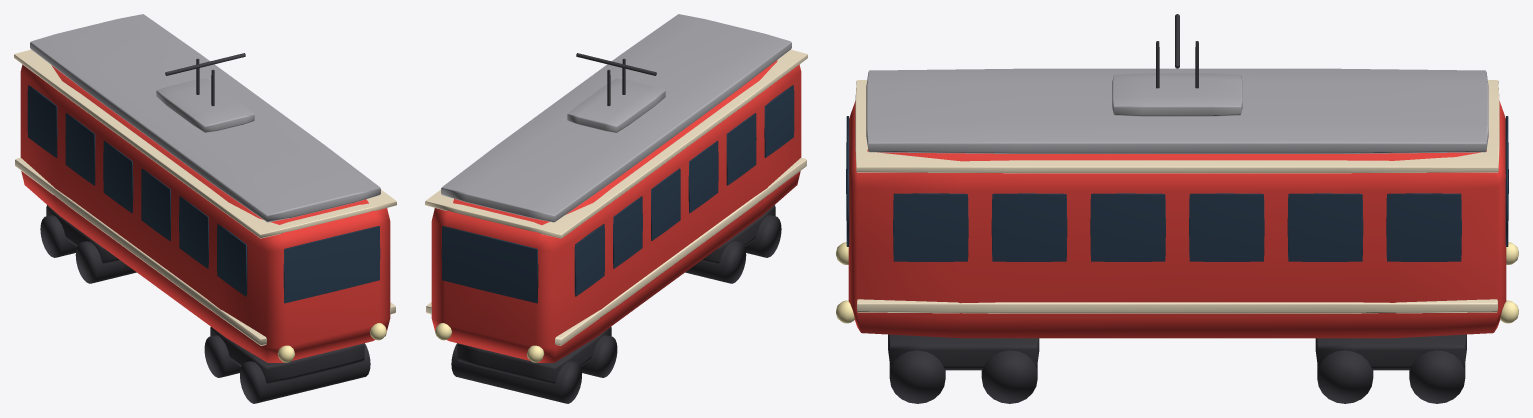
The model's file is StruggleTram.obj.
The picture shows the model from 3 angles, left to right: view 1: azimuth 30°, elevation 25°; view 2: azimuth 150°, elevation 25°; view 3: azimuth 270°, elevation 25°; orthographic projection. The views are drawn at different scales.
Parts seen in each view (by area): view 1: Body, Roof, Windows, Bogies, Stripe, Pantograph, Lamps; view 2: Body, Roof, Windows, Bogies, Stripe, Pantograph, Lamps; view 3: Body, Roof, Windows, Stripe, Bogies, Lamps, Pantograph.
Boxes of the visible parts, <box> form: Body: <box>20,64,390,362</box>; Roof: <box>30,14,380,222</box>; Windows: <box>27,85,380,303</box>; Bogies: <box>40,205,370,403</box>; Stripe: <box>14,49,396,345</box>; Pantograph: <box>165,53,245,106</box>; Lamps: <box>277,323,386,362</box>; Body: <box>431,60,801,362</box>; Roof: <box>441,14,791,222</box>; Windows: <box>441,85,794,303</box>; Bogies: <box>451,205,781,403</box>; Stripe: <box>425,49,807,345</box>; Pantograph: <box>576,53,656,105</box>; Lamps: <box>435,323,544,362</box>; Body: <box>848,100,1506,338</box>; Roof: <box>866,68,1488,153</box>; Windows: <box>846,116,1508,261</box>; Stripe: <box>855,80,1499,313</box>; Bogies: <box>888,334,1466,403</box>; Lamps: <box>836,242,1518,323</box>; Pantograph: <box>1156,14,1198,88</box>.
Size of the model in its own units: 6.34 by 11.08 by 20.77.
